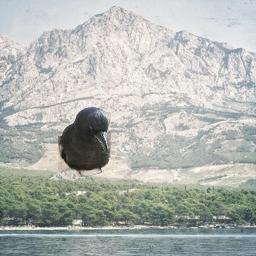Crow: (59, 107, 112, 178)
